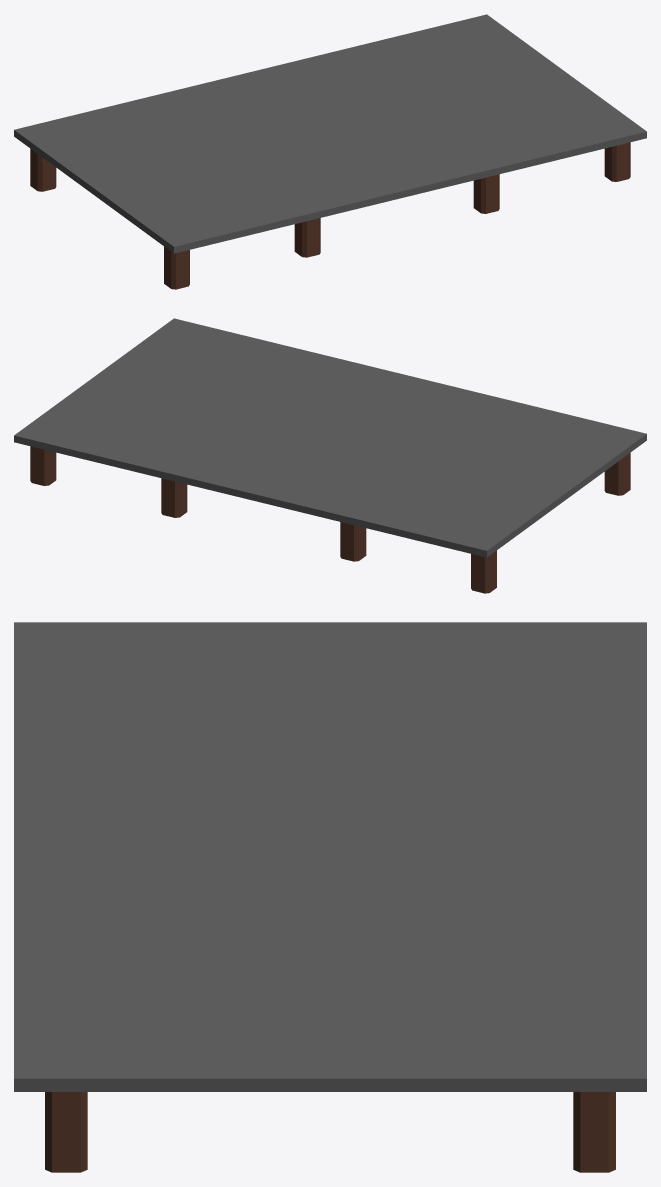
File: Platform_2_2 Asia.fbx
The picture shows the model from 3 angles, top to bottom: view 1: azimuth 30°, elevation 25°; view 2: azimuth 150°, elevation 25°; view 3: azimuth 270°, elevation 25°; orthographic projection. The views are drawn at different scales.
Parts seen in each view (by area): view 1: Platform_2_2; view 2: Platform_2_2; view 3: Platform_2_2.
Part boxes in pixels (bbox=[...]): Platform_2_2: bbox=[14, 14, 646, 289]; Platform_2_2: bbox=[14, 318, 646, 593]; Platform_2_2: bbox=[14, 622, 646, 1172].
Bounding box in the file's own units: 6.82 × 0.7011 × 4.
